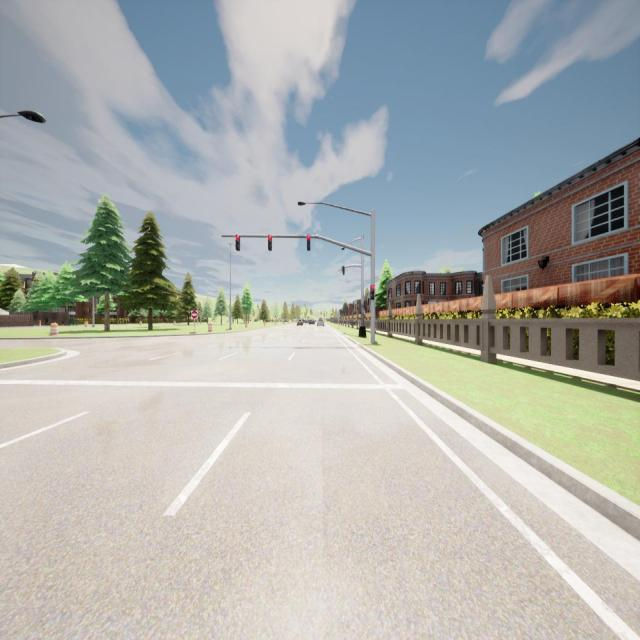Traffic_Signs: (191, 311, 198, 319)
Vehicle: (317, 318, 325, 327), (297, 318, 303, 327), (309, 318, 315, 326), (304, 317, 308, 325)
traffic_light: (370, 285, 375, 300), (268, 235, 272, 251), (307, 235, 311, 251), (236, 236, 240, 250), (341, 266, 345, 275)
